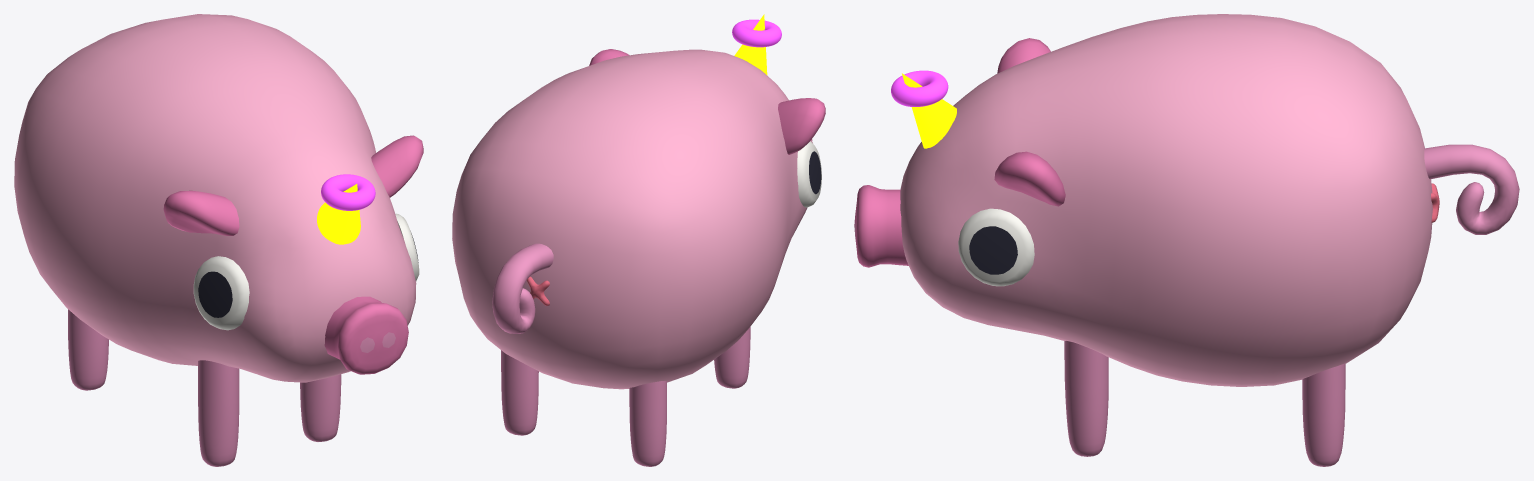
File: cerdito_magico.glb
The picture shows the model from 3 angles, left to right: view 1: azimuth 30°, elevation 25°; view 2: azimuth 150°, elevation 25°; view 3: azimuth 270°, elevation 25°; orthographic projection. The views are drawn at different scales.
Visible parts, largest first — view 1: Pig, root.003, root.001; view 2: Pig, root.003, root.001; view 3: Pig, root.003, root.001.
Part boxes in pixels (x1=…): Pig: x1=14, y1=14, x2=423, y2=466; root.003: x1=321, y1=174, x2=375, y2=210; root.001: x1=317, y1=184, x2=360, y2=244; Pig: x1=452, y1=49, x2=825, y2=466; root.003: x1=732, y1=19, x2=781, y2=47; root.001: x1=734, y1=14, x2=767, y2=75; Pig: x1=854, y1=14, x2=1519, y2=466; root.003: x1=891, y1=70, x2=948, y2=106; root.001: x1=902, y1=73, x2=956, y2=148.
Size of the model in its own units: 1.56 by 1.79 by 2.75.
3 materials, 1 textured.
